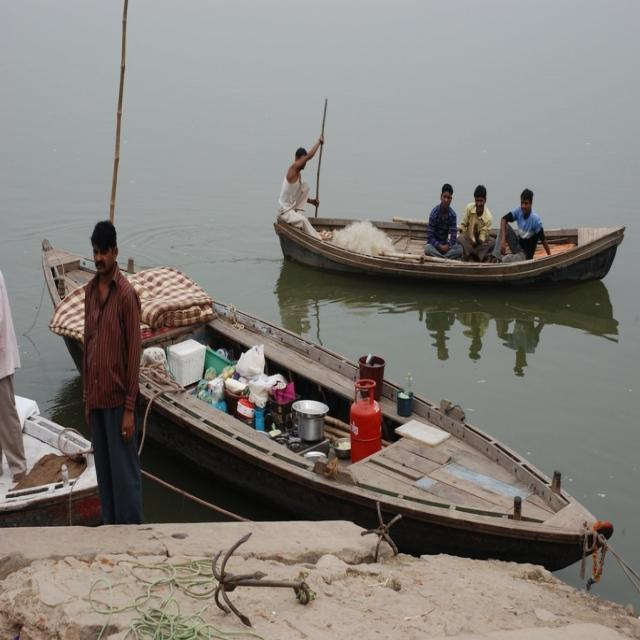boat: (28, 234, 600, 559), (258, 205, 620, 288)
